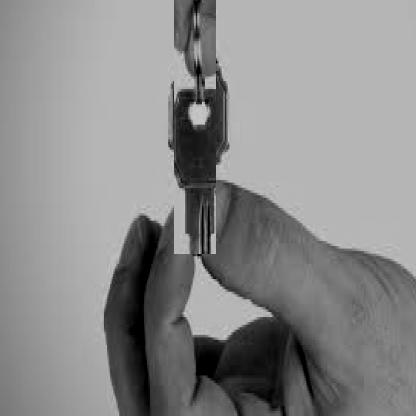key: (174, 0, 216, 254)
